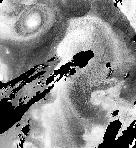CE: (11, 7, 52, 36)
